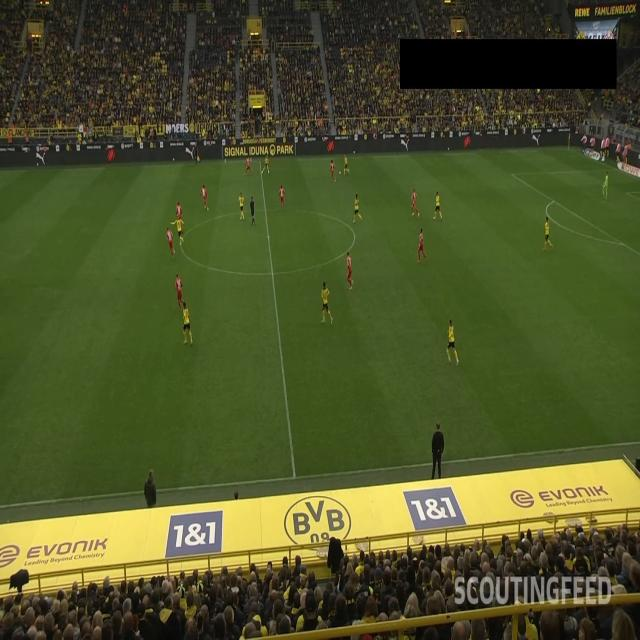ball: (338, 170, 342, 176)
